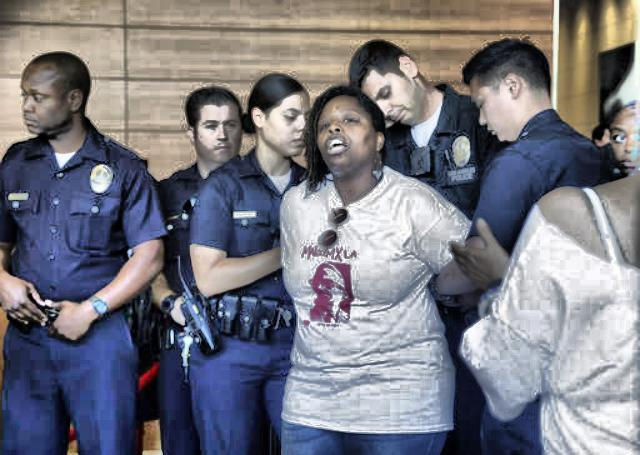pistol: (179, 290, 227, 354)
